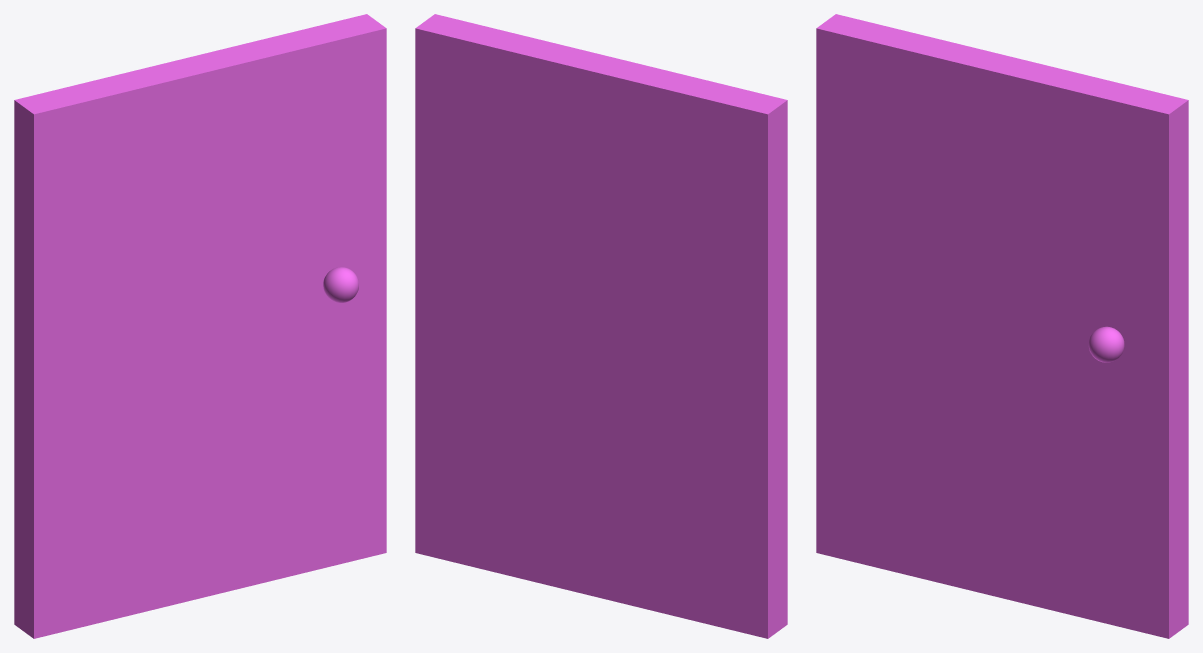
Rendered from puerta.obj.
3 renders of one model, left to right at view 1: azimuth 30°, elevation 25°; view 2: azimuth 150°, elevation 25°; view 3: azimuth 330°, elevation 25°, orthographic.
Parts seen in each view (by area): view 1: pCube2; view 2: pCube2; view 3: pCube2.
Boxes of the visible parts, left/top/right/bottom form: pCube2: left=14, top=14, right=386, bottom=638; pCube2: left=415, top=14, right=787, bottom=638; pCube2: left=816, top=14, right=1188, bottom=638.
Size of the model in its own units: 5.18 by 7.37 by 0.9447.
Materials: 1 (1 with a texture image).
